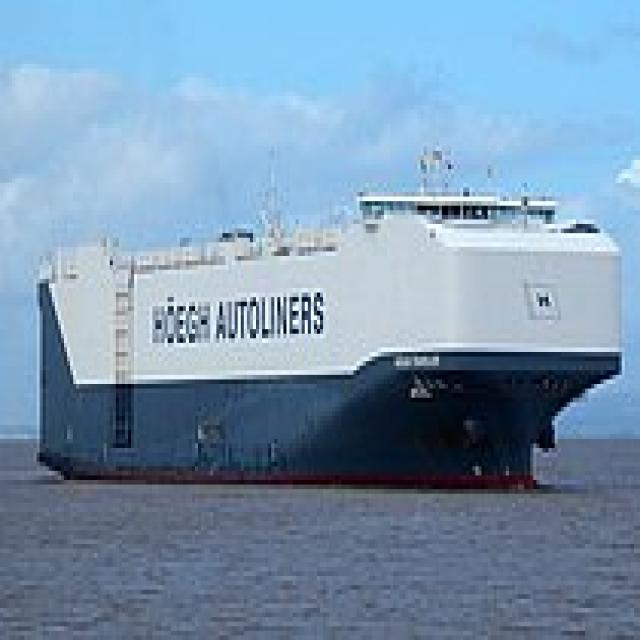Carrier: (31, 132, 622, 494)
